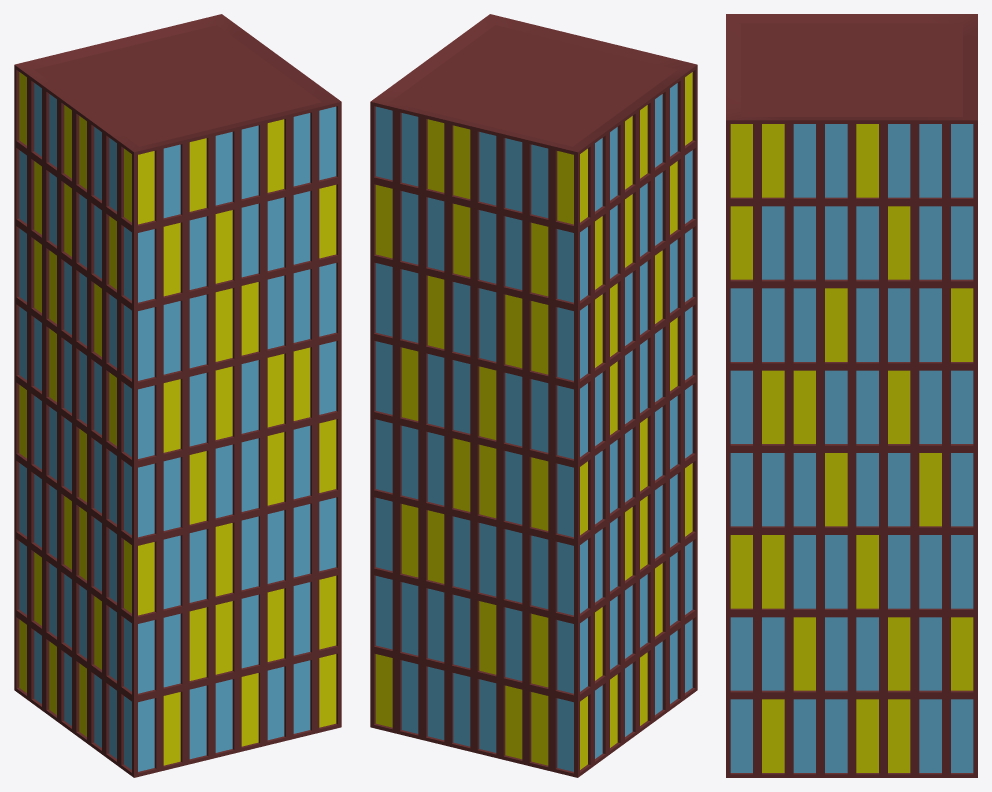
The model's file is Building1.fbx.
3 renders of one model, left to right at view 1: azimuth 30°, elevation 25°; view 2: azimuth 150°, elevation 25°; view 3: azimuth 270°, elevation 25°, orthographic. The views are drawn at different scales.
Parts seen in each view (by area): view 1: pCube1; view 2: pCube1; view 3: pCube1.
Part boxes in pixels (box(x1,y1,x2,y2)): pCube1: box(14, 14, 341, 777); pCube1: box(370, 14, 697, 777); pCube1: box(726, 14, 977, 777).
Bounding box in the file's own units: 8.21 × 23.64 × 8.21.
